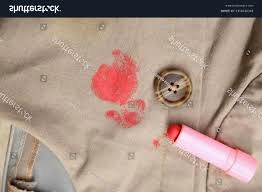lipstick: (92, 45, 141, 116), (102, 97, 147, 128), (148, 136, 161, 147)
